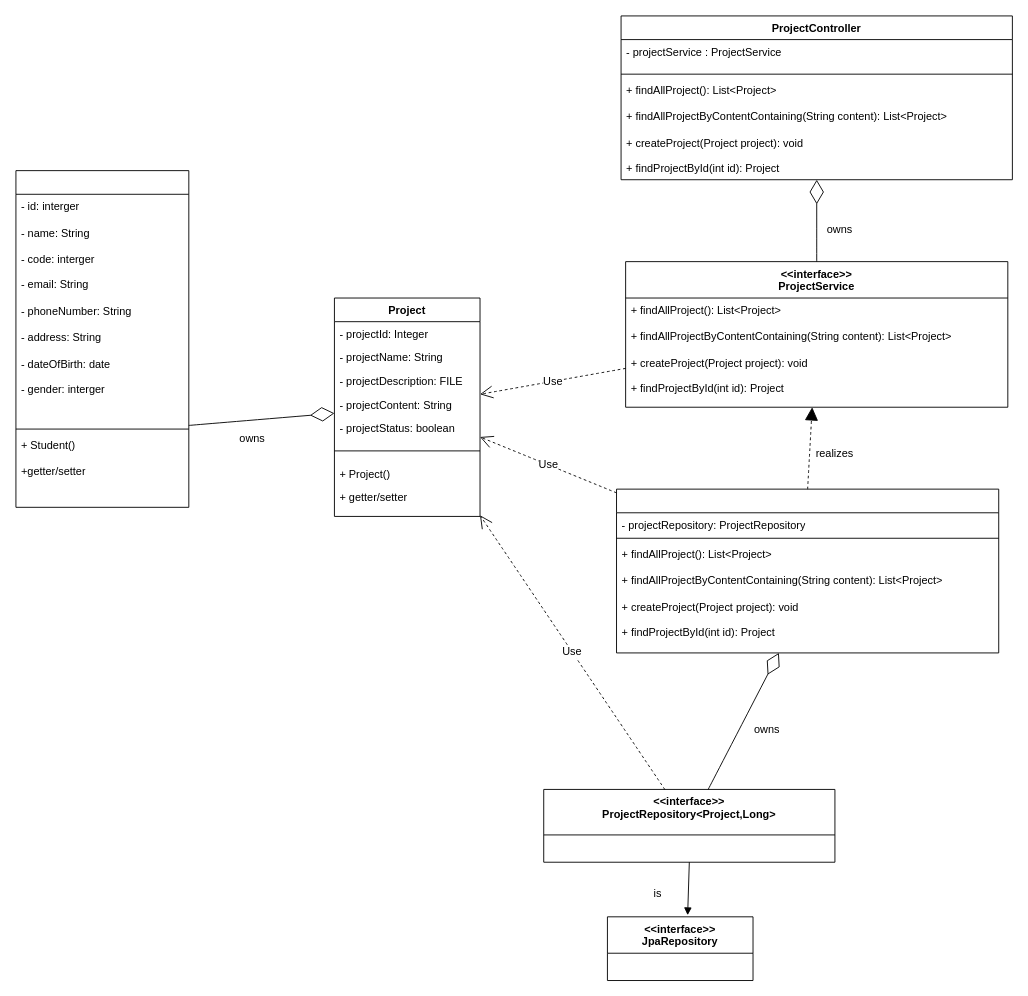
Some shapes in this 1028 by 996 pixel diagram are drawn without their labels. Each missing label, with the box of its shape:
ProjectServiceImpl: (616, 488, 999, 653)
Teacher: (15, 170, 189, 507)
